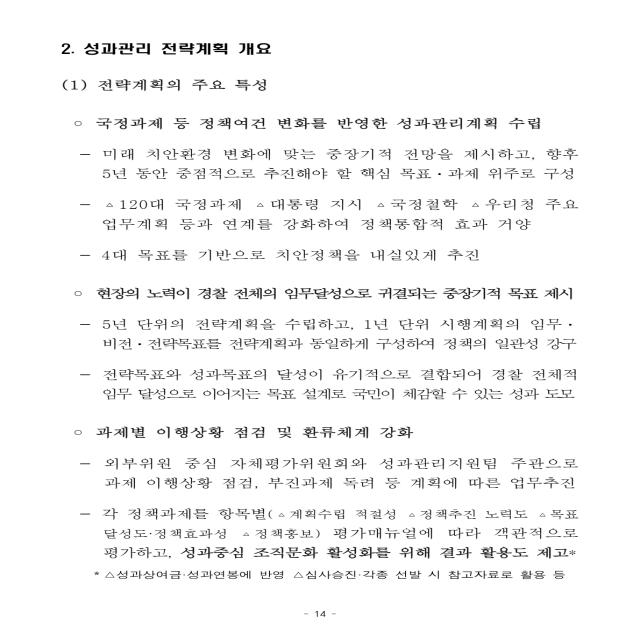subtitle: (55, 74, 273, 96)
text: (72, 114, 593, 588)
title: (48, 39, 279, 62)
